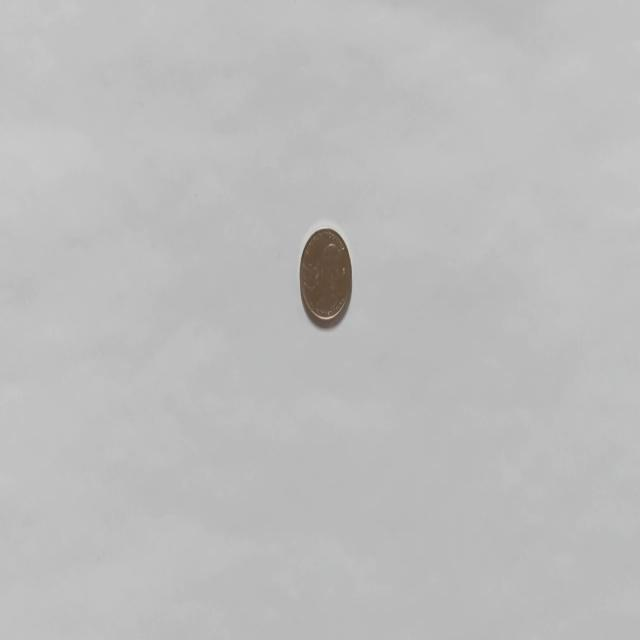seribu rupiah koin: (298, 224, 352, 328)
